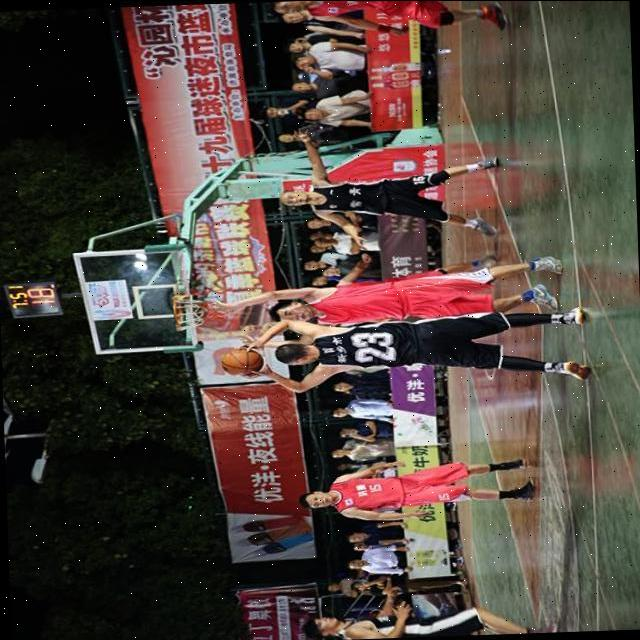ball: (218, 348, 264, 378)
hoop: (171, 290, 183, 334)
